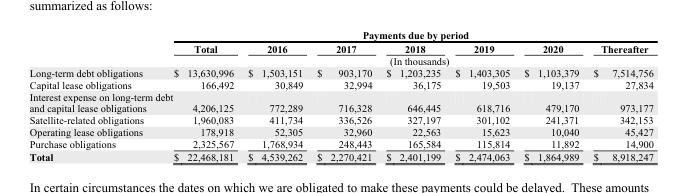table: (28, 28, 652, 162)
table column: (28, 28, 172, 162), (240, 28, 309, 162), (309, 28, 378, 162), (378, 28, 447, 162), (447, 28, 516, 162), (516, 28, 585, 162), (172, 28, 240, 162), (585, 28, 652, 162)
table column header: (28, 28, 652, 66)
table row: (28, 90, 652, 113), (28, 28, 652, 41), (28, 41, 652, 54), (28, 149, 652, 162), (28, 54, 652, 66), (28, 66, 652, 78), (28, 78, 652, 90), (28, 113, 652, 125), (28, 125, 652, 137), (28, 137, 652, 149)
table spanning cell: (172, 28, 652, 41), (172, 54, 652, 66)
